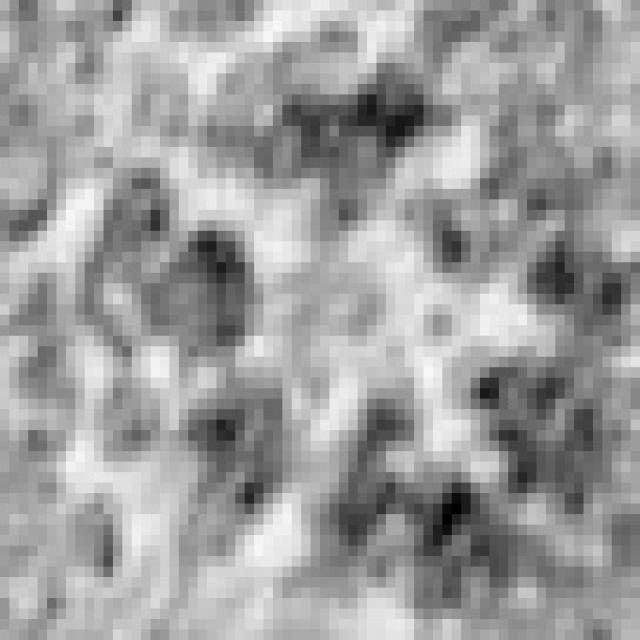inner: (267, 232, 474, 403)
lobe: (208, 26, 440, 240), (317, 382, 529, 611), (420, 159, 630, 342), (81, 165, 264, 369), (451, 339, 610, 523), (176, 379, 290, 567)
outer: (2, 0, 640, 640)
